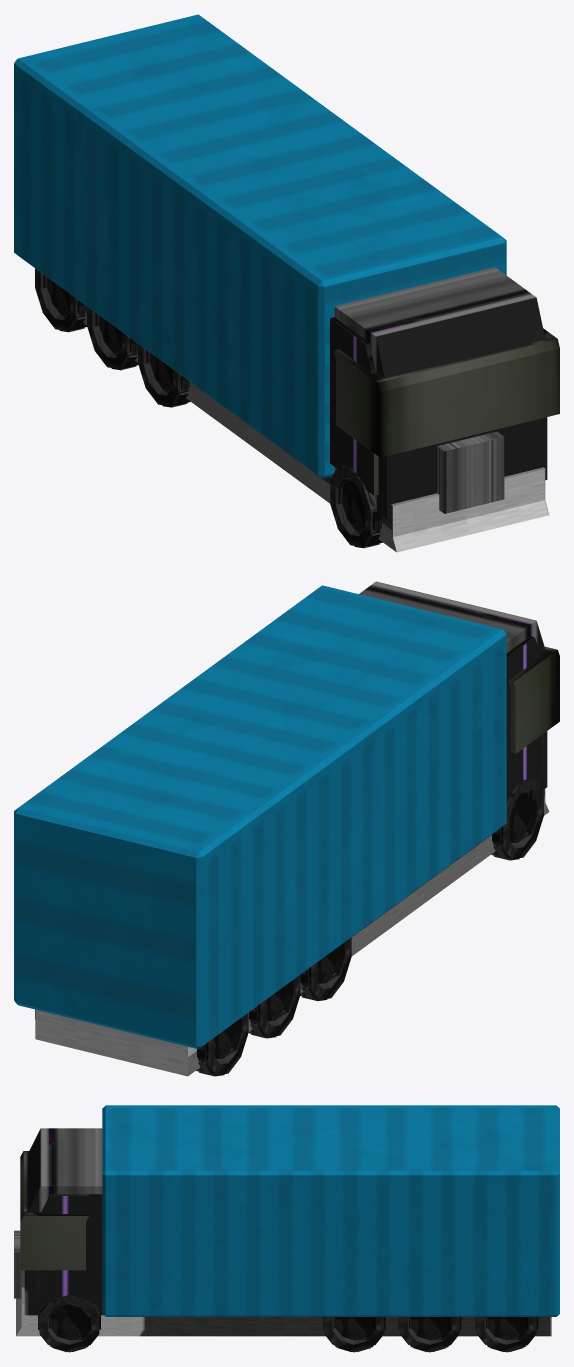
The model's file is vehicle-truck_1.fbx.
The picture shows the model from 3 angles, top to bottom: view 1: azimuth 30°, elevation 25°; view 2: azimuth 150°, elevation 25°; view 3: azimuth 270°, elevation 25°; orthographic projection. The views are drawn at different scales.
Visible parts, largest first — view 1: Cube.044; view 2: Cube.044; view 3: Cube.044.
Part boxes in pixels (box(x1,y1,x2,y2)): Cube.044: box(14, 14, 559, 552); Cube.044: box(14, 581, 559, 1076); Cube.044: box(14, 1105, 559, 1352).
Bounding box in the file's own units: 200 × 251 × 677.
